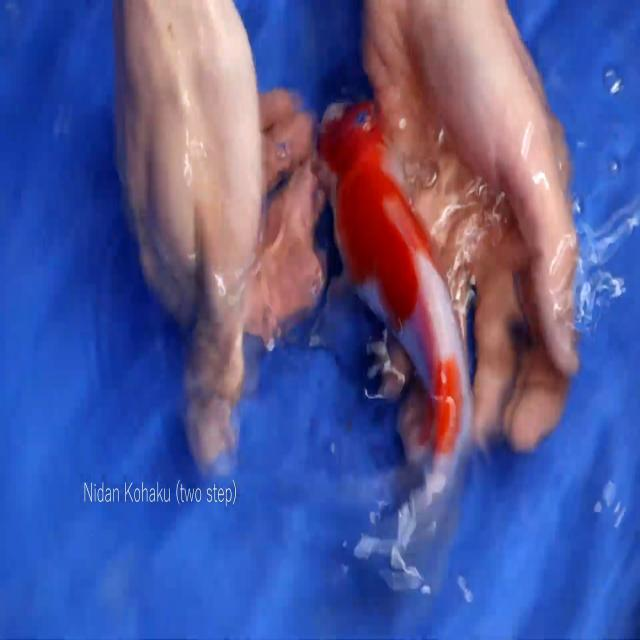Kohaku: (311, 84, 492, 593)
